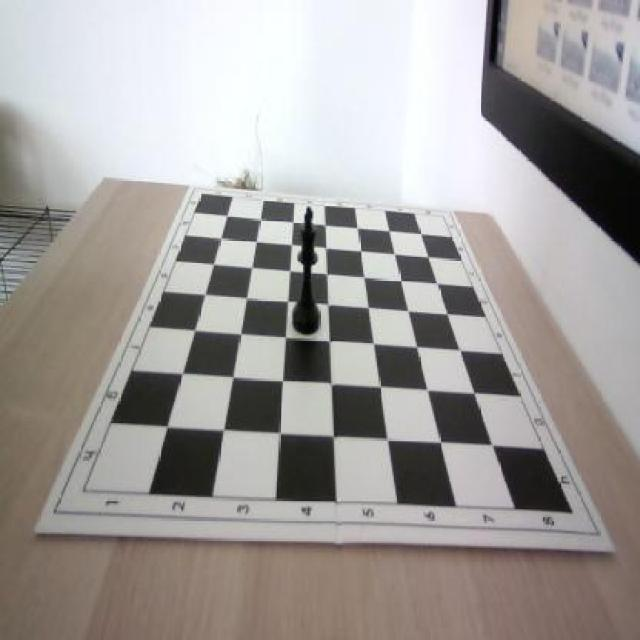black-bishop: (290, 205, 322, 337)
